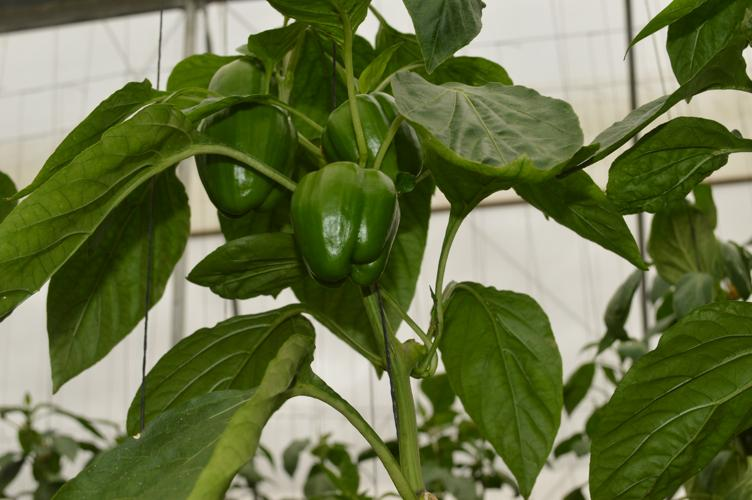BellPepper: (182, 48, 294, 217), (287, 163, 401, 295), (318, 85, 430, 190)
